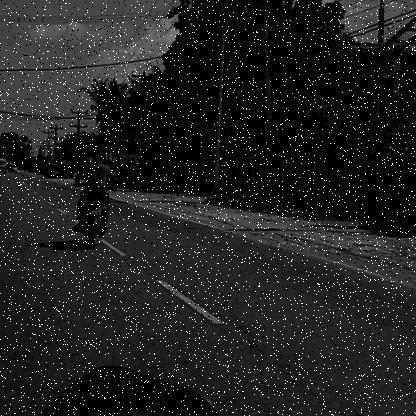motorcycle: (71, 190, 112, 250)
